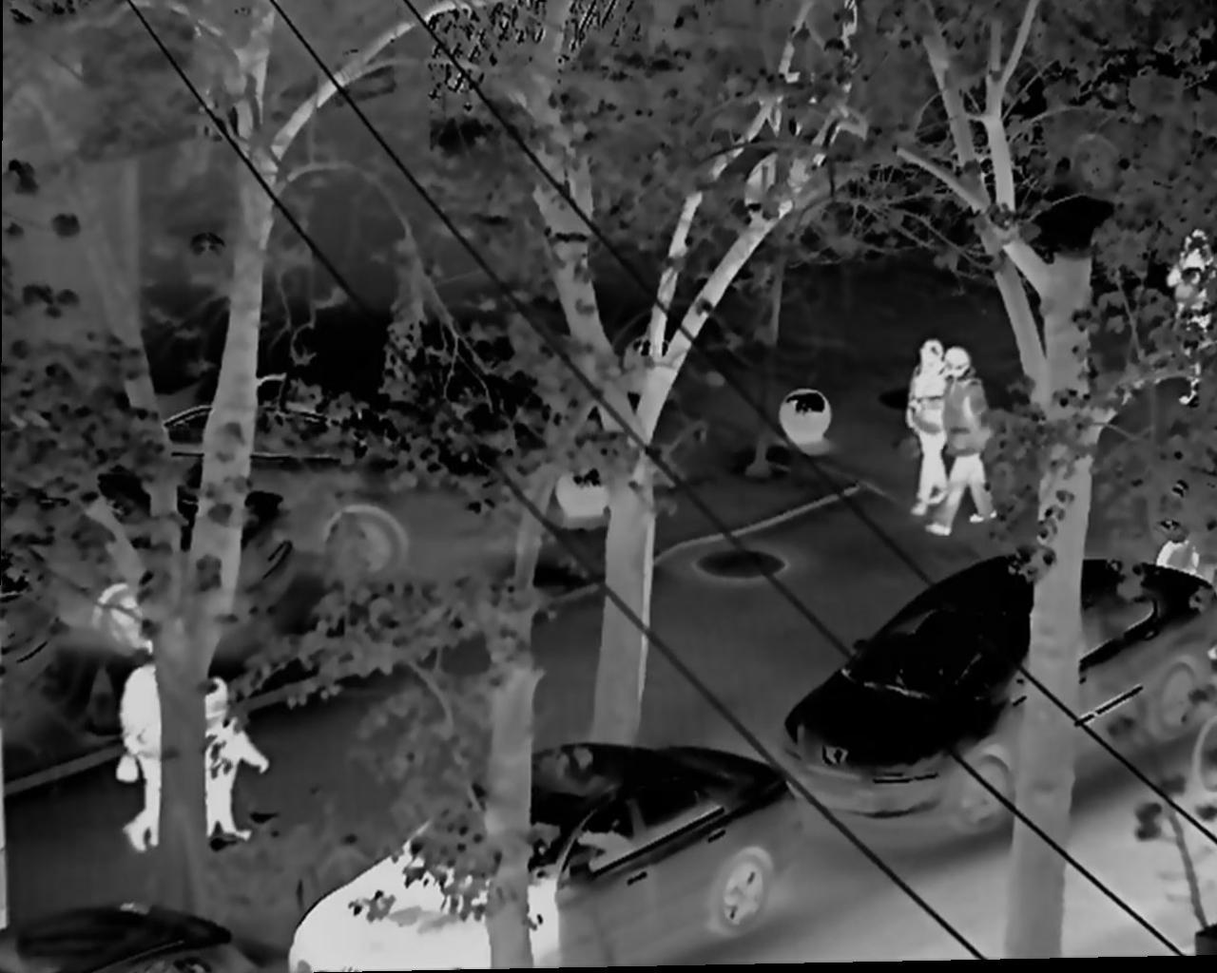person: (101, 627, 178, 849), (186, 681, 262, 853), (937, 347, 997, 533), (900, 338, 947, 531), (1166, 231, 1217, 404)
